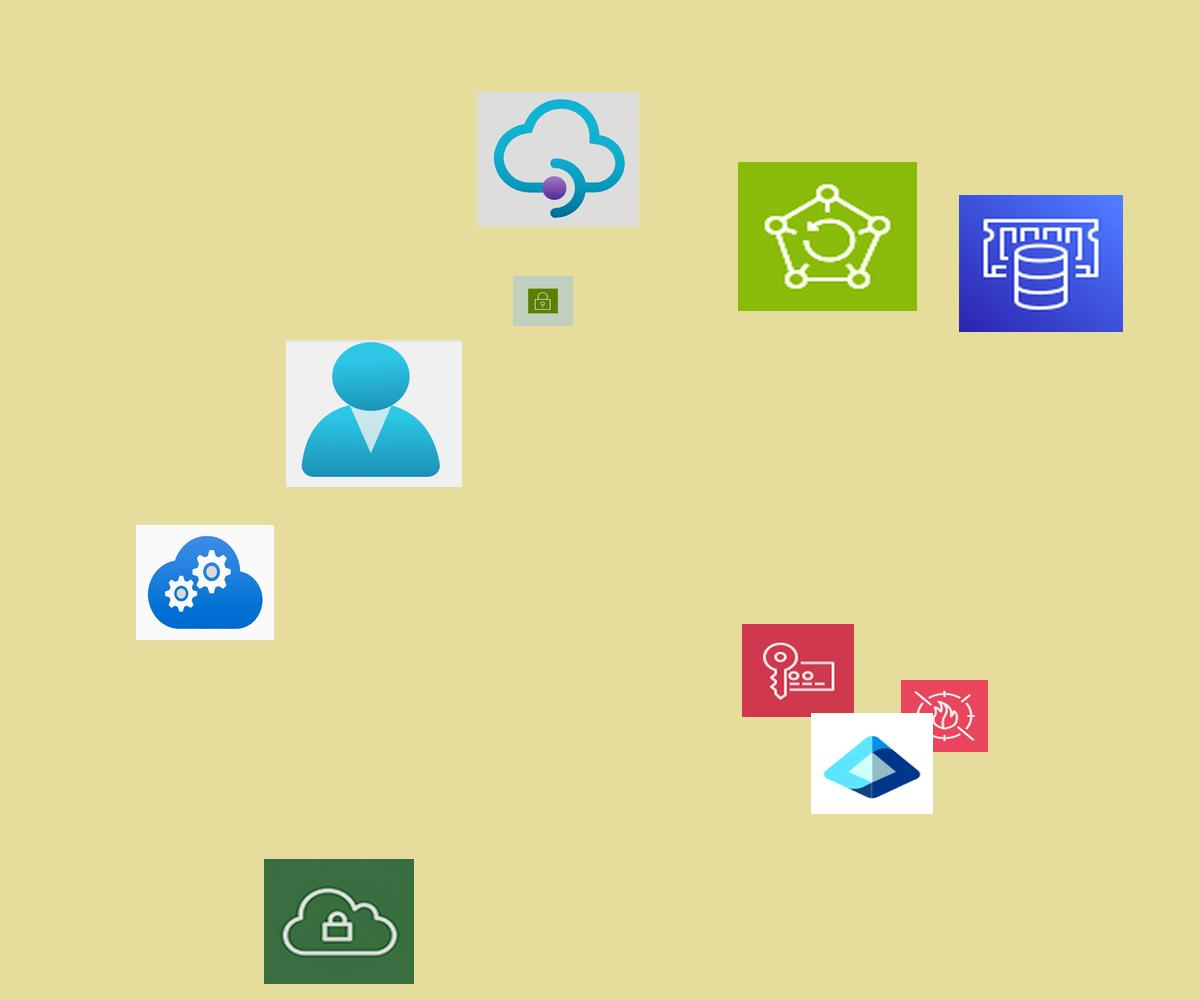AWS-Backup: (738, 162, 917, 311)
AWS-ElastiCache: (959, 195, 1123, 332)
AWS-Key-Management-Service: (742, 624, 854, 717)
AWS-Private_vpc: (264, 859, 414, 984)
AWS-Public-subnet: (513, 276, 573, 326)
AWS-WAF: (901, 680, 988, 752)
Azure_api_gateway: (477, 92, 639, 227)
Azure_cloud_services: (136, 525, 274, 640)
Azure_microsoft_entra: (811, 713, 933, 814)
Azure_users: (286, 340, 462, 487)
